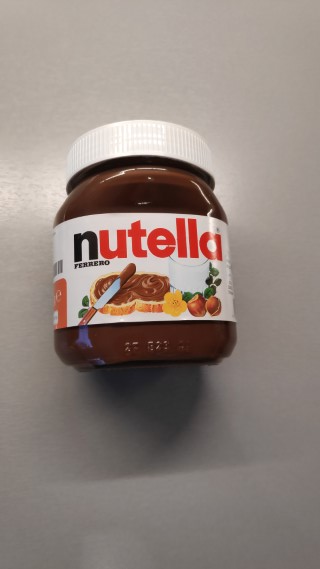nutella: (48, 116, 238, 377)
